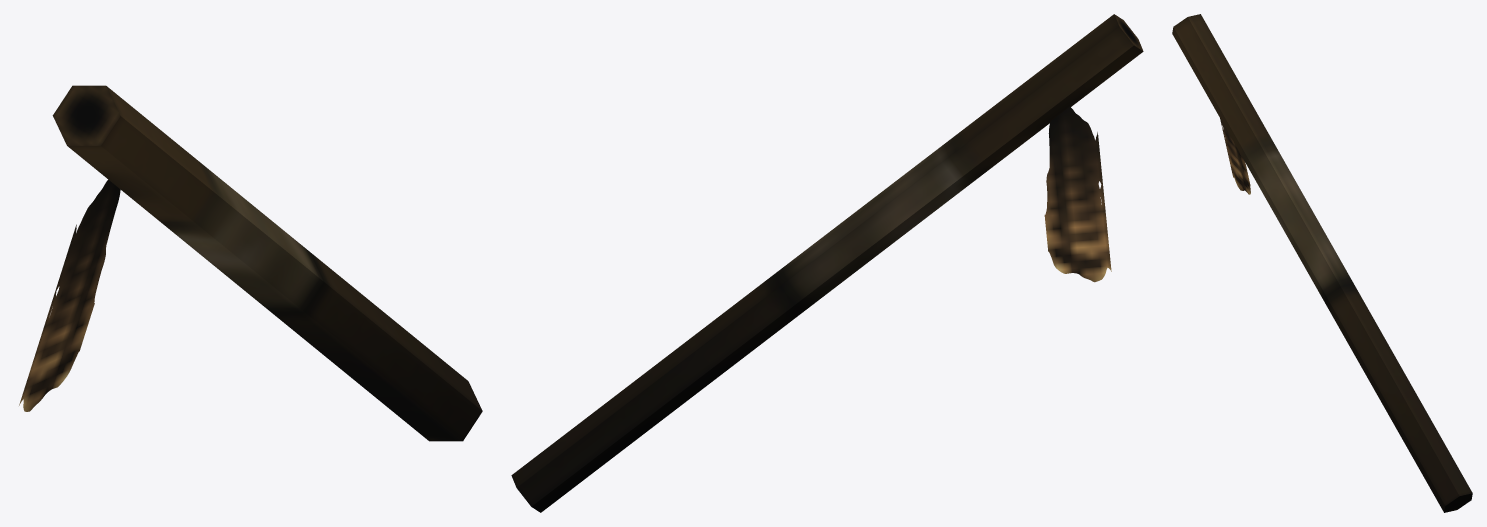
File: blow pipe 1.fbx
3 views of the same model, side by side, from view 1: azimuth 30°, elevation 25°; view 2: azimuth 150°, elevation 25°; view 3: azimuth 270°, elevation 25° (orthographic). The views are drawn at different scales.
Visible parts, largest first — view 1: Blowpipe1; view 2: Blowpipe1; view 3: Blowpipe1.
Boxes of the visible parts, box(x1,y1,x2,y2) form: Blowpipe1: box(19, 85, 482, 441); Blowpipe1: box(511, 14, 1143, 512); Blowpipe1: box(1172, 14, 1472, 512).
Bounding box in the file's own units: 0.4235 × 0.4155 × 0.3247.
